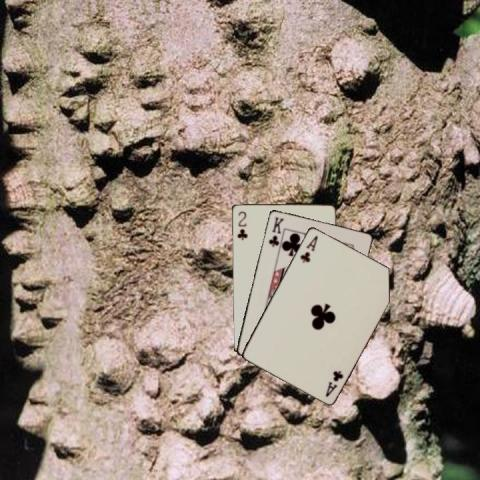2c: (234, 208, 249, 241)
Ac: (297, 232, 319, 263), (322, 367, 344, 398)
Kc: (265, 214, 285, 248)
